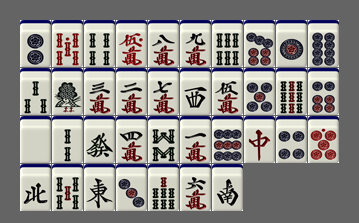0m: (116, 20, 147, 67)
0p: (308, 116, 339, 163)
0s: (52, 20, 83, 67)
1m: (180, 116, 211, 163)
1p: (276, 20, 307, 67)
1s: (52, 68, 83, 115)
1z: (84, 164, 115, 211)
2m: (116, 68, 147, 115)
2p: (20, 20, 51, 67)
2s: (52, 116, 83, 163)
2z: (212, 164, 243, 211)
3m: (84, 68, 115, 115)
3p: (116, 164, 147, 211)
3s: (20, 68, 51, 115)
3z: (180, 68, 211, 115)
4m: (116, 116, 147, 163)
4p: (276, 116, 307, 163)
4s: (84, 20, 115, 67)
4z: (20, 164, 51, 211)
5m: (212, 68, 243, 115)
5p: (244, 68, 275, 115)
5s: (52, 164, 83, 211)
5z: (20, 116, 51, 163)
6m: (180, 164, 211, 211)
6p: (308, 68, 339, 115)
6s: (212, 20, 243, 67)
6z: (84, 116, 115, 163)
7m: (148, 68, 179, 115)
7p: (244, 20, 275, 67)
7s: (148, 164, 179, 211)
7z: (244, 116, 275, 163)
8m: (148, 20, 179, 67)
8p: (308, 20, 339, 67)
8s: (148, 116, 179, 163)
9m: (180, 20, 211, 67)
9p: (212, 116, 243, 163)
9s: (276, 68, 307, 115)
